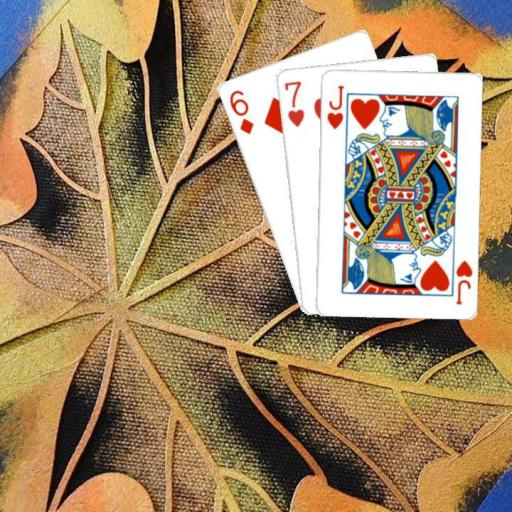6D: (226, 86, 256, 136)
7H: (281, 78, 305, 129)
JH: (323, 82, 345, 130), (453, 257, 474, 305)
